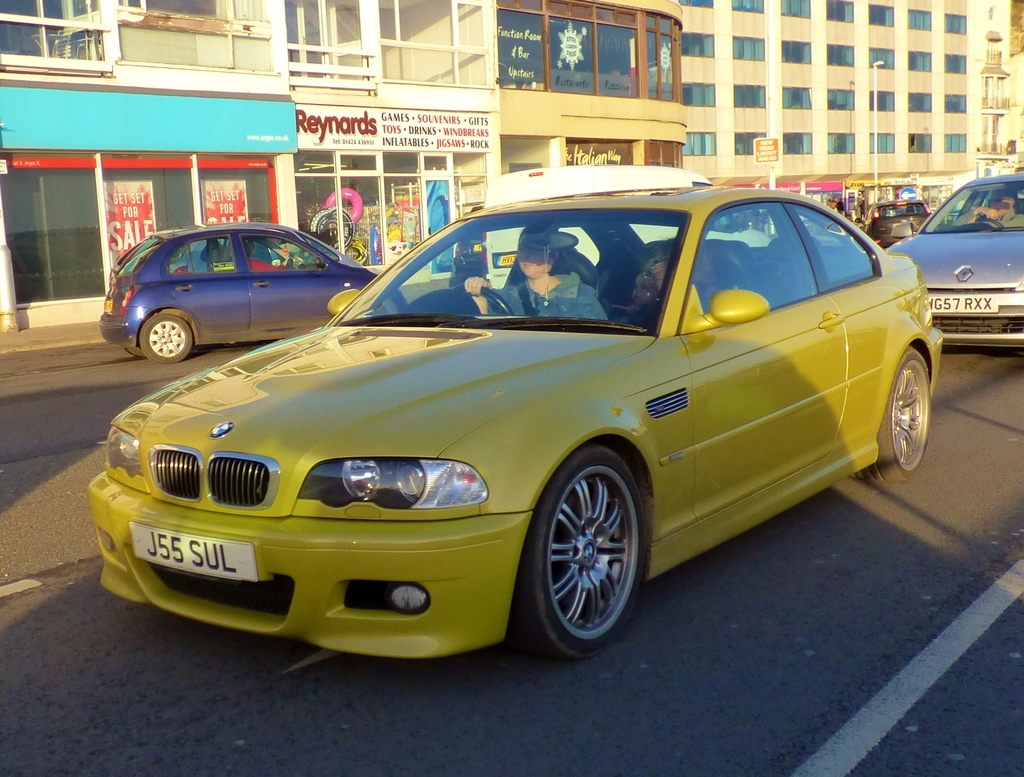Car: (87, 184, 942, 658), (99, 225, 378, 360), (888, 171, 1023, 349)
